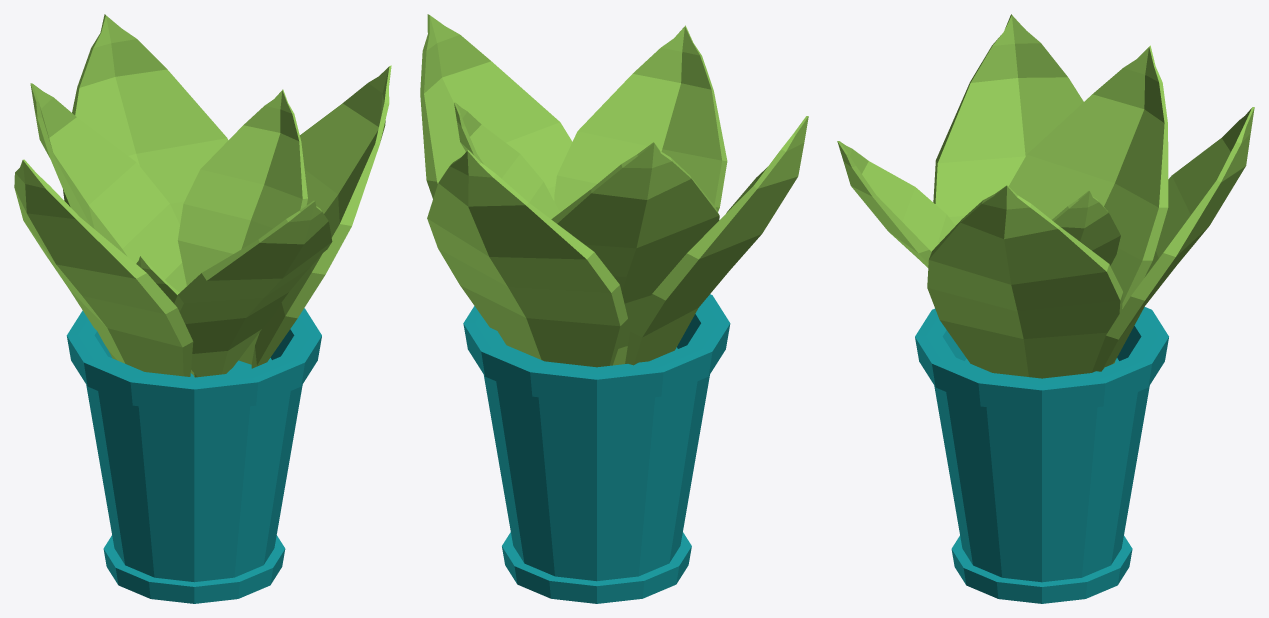
The model's file is MediumPlant.fbx.
The picture shows the model from 3 angles, left to right: view 1: azimuth 30°, elevation 25°; view 2: azimuth 150°, elevation 25°; view 3: azimuth 270°, elevation 25°; orthographic projection. The views are drawn at different scales.
Visible parts, largest first — view 1: MediumPlant; view 2: MediumPlant; view 3: MediumPlant.
Part boxes in pixels (bbox=[...]): MediumPlant: bbox=[14, 14, 391, 603]; MediumPlant: bbox=[420, 14, 808, 603]; MediumPlant: bbox=[837, 14, 1254, 603].
Size of the model in its own units: 312 by 383 by 309.
